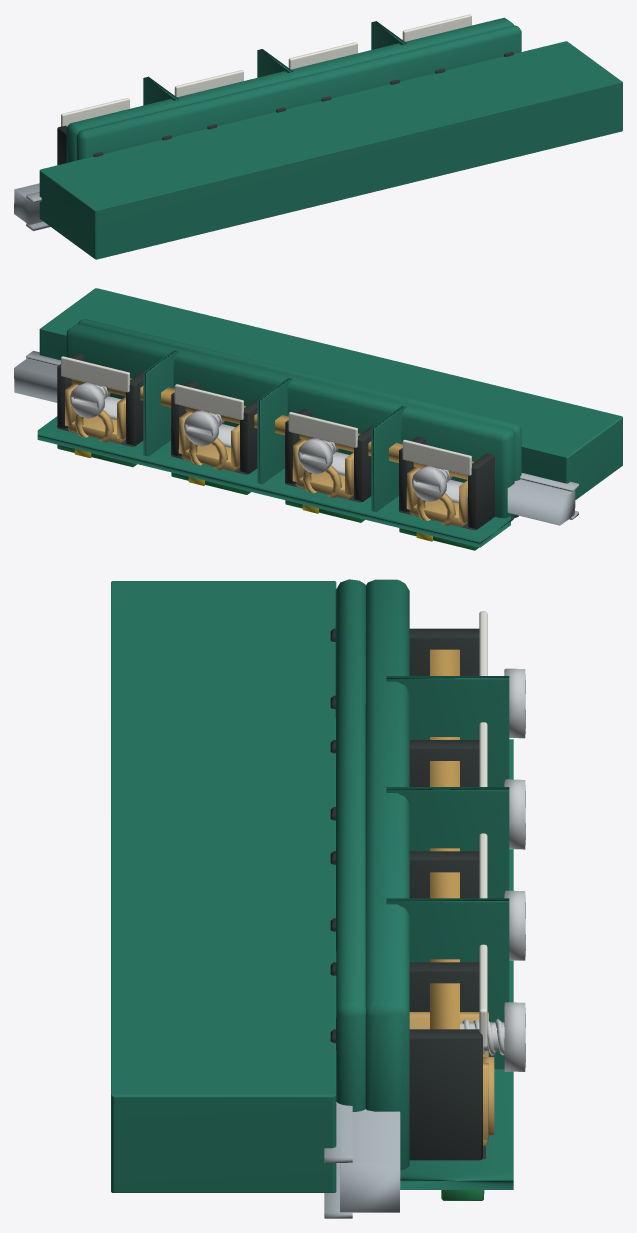
The model's file is earthbar_default.low.glb.
The picture shows the model from 3 angles, top to bottom: view 1: azimuth 30°, elevation 25°; view 2: azimuth 150°, elevation 25°; view 3: azimuth 270°, elevation 25°; orthographic projection. The views are drawn at different scales.
Parts seen in each view (by area): view 1: part:body, part:terminals · Original 9463cfd1, part:mounting · Original 2a8198d3, Moulded terminal legend pad.003, Moulded terminal legend pad.002, Moulded terminal legend pad.001, Moulded terminal legend pad, detail:terminal-clamp:1 · Detail moulded engineering polymer; view 2: part:terminals · Original 9463cfd1, part:body, part:mounting · Original 2a8198d3, detail:terminal-clamp:1 · Detail moulded engineering polymer, detail:terminal-clamp:4 · Detail moulded engineering polymer, detail:terminal-clamp:2 · Detail moulded engineering polymer, detail:terminal-clamp:3 · Detail moulded engineering polymer, detail:terminal-clamp:2 · Detail machined brass, detail:terminal-clamp:1 · Detail machined brass, detail:terminal-clamp:3 · Detail machined brass, detail:terminal-clamp:4 · Detail machined brass, part:terminals.001 (+8 smaller); view 3: part:body, part:terminals · Original 9463cfd1, detail:terminal-clamp:4 · Detail moulded engineering polymer, part:mounting · Original 2a8198d3, part:terminals.001, detail:terminal-clamp:1 · Detail moulded engineering polymer, detail:terminal-clamp:3 · Detail moulded engineering polymer, detail:terminal-clamp:2 · Detail moulded engineering polymer, detail:terminal-clamp:4 · Detail zinc plated fixing, detail:terminal-clamp:4 · Detail machined brass, detail:terminal-clamp:2 · Detail zinc plated fixing, detail:terminal-clamp:3 · Detail zinc plated fixing (+2 smaller).
Part boxes in pixels (left/top/right/bottom): part:body: left=39, top=41, right=622, bottom=259; part:terminals · Original 9463cfd1: left=66, top=17, right=521, bottom=162; part:mounting · Original 2a8198d3: left=14, top=183, right=50, bottom=230; Moulded terminal legend pad.003: left=402, top=14, right=471, bottom=41; Moulded terminal legend pad.002: left=288, top=42, right=357, bottom=69; Moulded terminal legend pad.001: left=174, top=70, right=243, bottom=97; Moulded terminal legend pad: left=61, top=98, right=129, bottom=126; detail:terminal-clamp:1 · Detail moulded engineering polymer: left=57, top=125, right=171, bottom=165; part:terminals · Original 9463cfd1: left=37, top=319, right=521, bottom=547; part:body: left=39, top=288, right=622, bottom=499; part:mounting · Original 2a8198d3: left=14, top=351, right=578, bottom=525; detail:terminal-clamp:1 · Detail moulded engineering polymer: left=399, top=436, right=494, bottom=530; detail:terminal-clamp:4 · Detail moulded engineering polymer: left=57, top=353, right=145, bottom=446; detail:terminal-clamp:2 · Detail moulded engineering polymer: left=285, top=409, right=373, bottom=502; detail:terminal-clamp:3 · Detail moulded engineering polymer: left=171, top=381, right=259, bottom=474; detail:terminal-clamp:2 · Detail machined brass: left=292, top=439, right=353, bottom=499; detail:terminal-clamp:1 · Detail machined brass: left=406, top=467, right=467, bottom=526; detail:terminal-clamp:3 · Detail machined brass: left=178, top=411, right=239, bottom=471; detail:terminal-clamp:4 · Detail machined brass: left=65, top=384, right=125, bottom=443; part:terminals.001: left=71, top=378, right=473, bottom=479; part:body: left=111, top=581, right=336, bottom=1192; part:terminals · Original 9463cfd1: left=335, top=579, right=513, bottom=1189; detail:terminal-clamp:4 · Detail moulded engineering polymer: left=330, top=962, right=485, bottom=1160; part:mounting · Original 2a8198d3: left=324, top=1102, right=400, bottom=1218; part:terminals.001: left=430, top=649, right=459, bottom=1029; detail:terminal-clamp:1 · Detail moulded engineering polymer: left=330, top=628, right=479, bottom=708; detail:terminal-clamp:3 · Detail moulded engineering polymer: left=330, top=851, right=479, bottom=931; detail:terminal-clamp:2 · Detail moulded engineering polymer: left=330, top=740, right=479, bottom=820; detail:terminal-clamp:4 · Detail zinc plated fixing: left=460, top=1002, right=525, bottom=1071; detail:terminal-clamp:4 · Detail machined brass: left=409, top=1012, right=494, bottom=1146; detail:terminal-clamp:2 · Detail zinc plated fixing: left=504, top=779, right=525, bottom=849; detail:terminal-clamp:3 · Detail zinc plated fixing: left=504, top=890, right=525, bottom=960.
Size of the model in its own units: 0.922 by 0.1679 by 0.3033.
